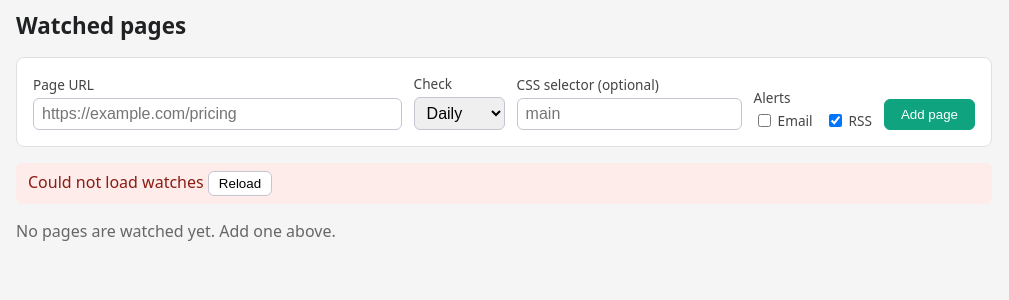
Test: a failed load is shown and Reload tries again
This screenshot has width=1009, height=300.
Expected: the message shows "Could not load watches", [28, 171, 204, 193]
Click the button "Reload": x=240, y=184 [208, 171, 272, 196]
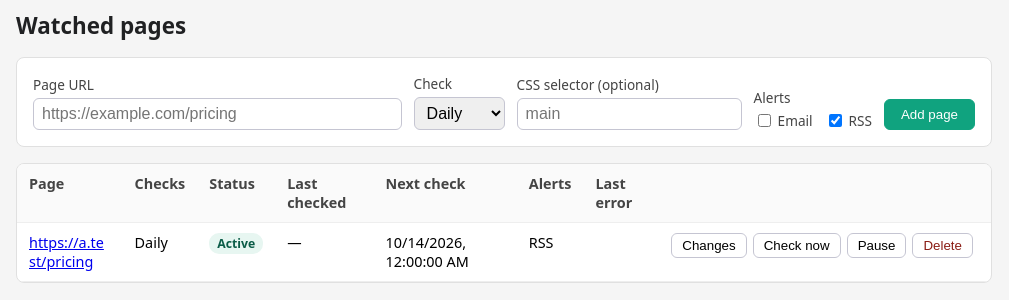
Result: the link "https://a.test/pricing" is shown at [29, 233, 104, 271]
Result: the message "Could not load watches Reload" is gone
